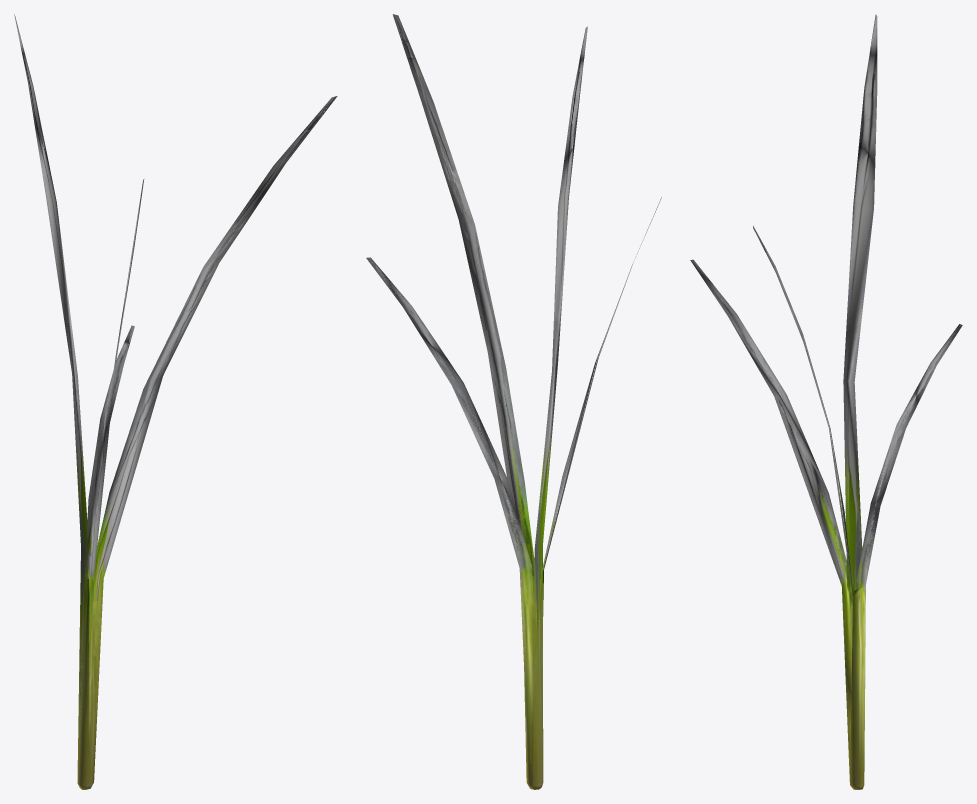
The model's file is suitou_001.glb.
The picture shows the model from 3 angles, left to right: view 1: azimuth 30°, elevation 25°; view 2: azimuth 150°, elevation 25°; view 3: azimuth 270°, elevation 25°; orthographic projection. The views are drawn at different scales.
Visible parts, largest first — view 1: tripo_node_d08f6219-4ab3-47b9-8465-72d8c17bc380; view 2: tripo_node_d08f6219-4ab3-47b9-8465-72d8c17bc380; view 3: tripo_node_d08f6219-4ab3-47b9-8465-72d8c17bc380.
Boxes of the visible parts, x1,y1,x2,y2 form: tripo_node_d08f6219-4ab3-47b9-8465-72d8c17bc380: (14,14,337,789); tripo_node_d08f6219-4ab3-47b9-8465-72d8c17bc380: (366,14,661,789); tripo_node_d08f6219-4ab3-47b9-8465-72d8c17bc380: (690,14,962,789).
Size of the model in its own units: 0.1039 by 0.3 by 0.0992.
Materials: 1 (1 with a texture image).
